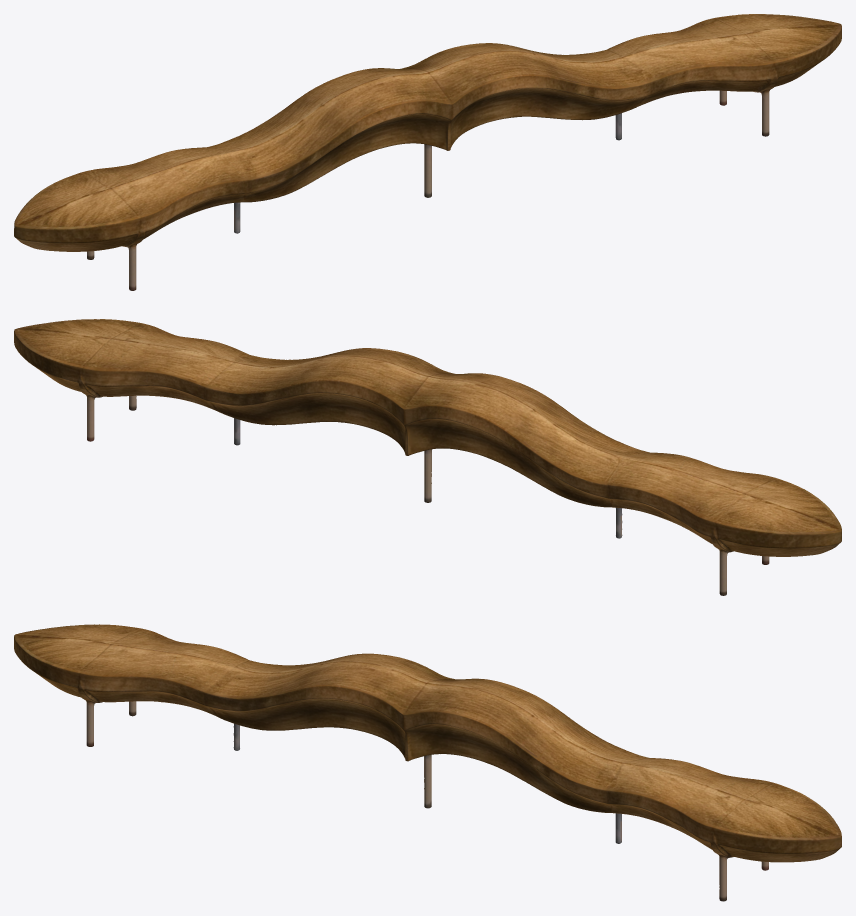
Rendered from banc-louvre_c.glb.
3 views of the same model, one above another, from view 1: azimuth 30°, elevation 25°; view 2: azimuth 150°, elevation 25°; view 3: azimuth 330°, elevation 25° (orthographic).
Parts seen in each view (by area): view 1: Mesh_0.009; view 2: Mesh_0.009; view 3: Mesh_0.009.
Boxes of the visible parts, box(x1,y1,x2,y2) form: Mesh_0.009: box(14, 14, 841, 290); Mesh_0.009: box(14, 319, 841, 595); Mesh_0.009: box(14, 624, 841, 901).
Bounding box in the file's own units: 1.9 × 0.2858 × 0.2459.
Materials: 1 (1 with a texture image).
